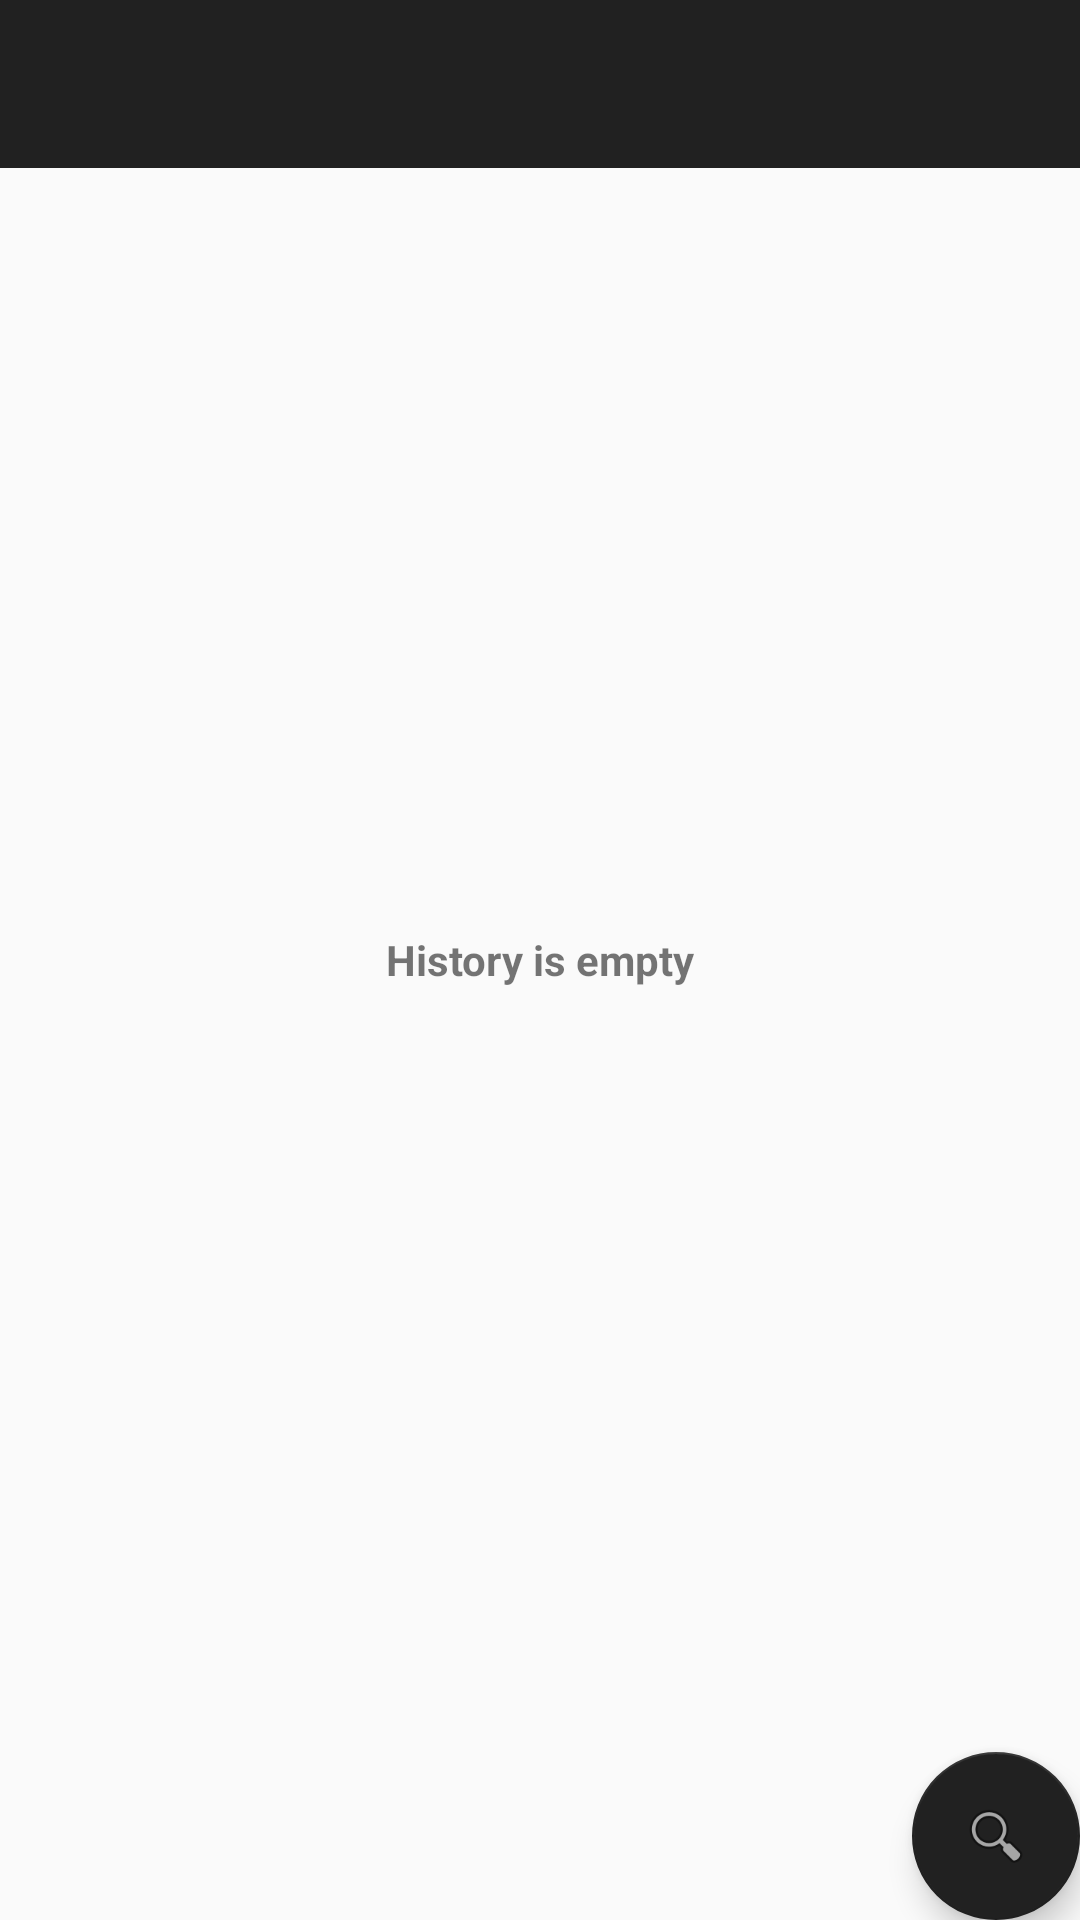

Screen size 1080 x 1920. Icon name, then its box in pixels as (x1, y1, x2, y2):
search: (912, 1752, 1080, 1920)
